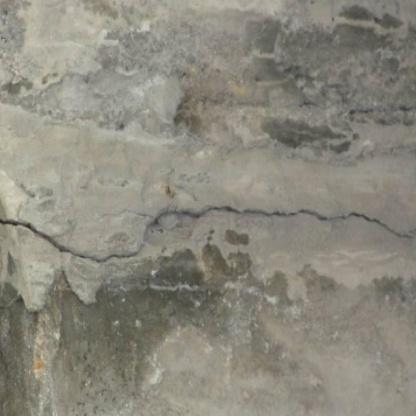Cracks: (146, 203, 416, 245), (0, 215, 146, 268)
